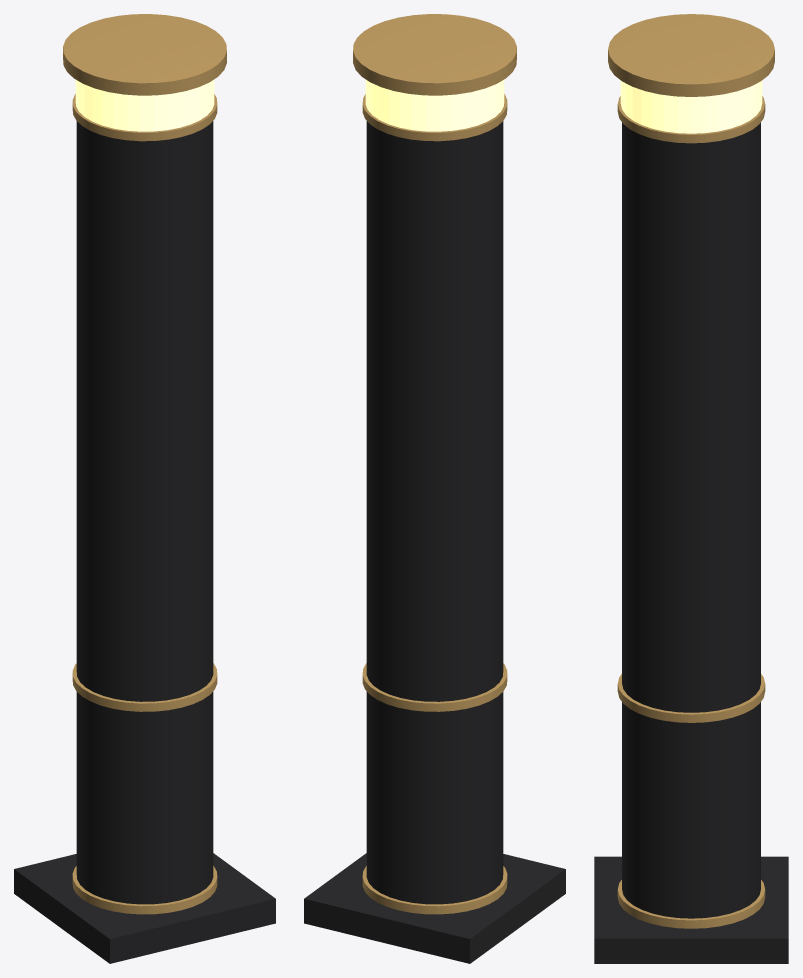
Rendered from pillar_light.glb.
The picture shows the model from 3 angles, left to right: view 1: azimuth 30°, elevation 25°; view 2: azimuth 150°, elevation 25°; view 3: azimuth 270°, elevation 25°; orthographic projection.
Parts seen in each view (by area): view 1: Shaft_LOD0, Plinth_LOD0, Cap_LOD0, Crown_LOD0, Ring_LOD0.001, Ring_LOD0, Ring_LOD0.002; view 2: Shaft_LOD0, Plinth_LOD0, Cap_LOD0, Crown_LOD0, Ring_LOD0.001, Ring_LOD0, Ring_LOD0.002; view 3: Shaft_LOD0, Plinth_LOD0, Cap_LOD0, Crown_LOD0, Ring_LOD0.001, Ring_LOD0, Ring_LOD0.002.
Part boxes in pixels (x1,y1,x2,y2): Shaft_LOD0: (76,121,213,904); Plinth_LOD0: (14,853,275,963); Cap_LOD0: (63,14,226,95); Crown_LOD0: (75,79,214,131); Ring_LOD0.001: (72,663,217,711); Ring_LOD0: (72,866,217,914); Ring_LOD0.002: (72,94,217,141); Shaft_LOD0: (366,121,503,904); Plinth_LOD0: (304,853,565,963); Cap_LOD0: (353,14,516,95); Crown_LOD0: (365,79,504,131); Ring_LOD0.001: (362,663,507,711); Ring_LOD0: (362,866,507,914); Ring_LOD0.002: (362,94,507,141); Shaft_LOD0: (622,122,760,918); Plinth_LOD0: (594,856,788,963); Cap_LOD0: (608,14,774,96); Crown_LOD0: (620,80,762,133); Ring_LOD0.001: (617,674,765,722); Ring_LOD0: (617,880,765,928); Ring_LOD0.002: (617,96,765,143).
Bounding box in the file's own units: 0.84 × 4.17 × 0.84.
